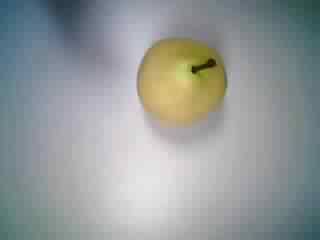pear: (128, 27, 234, 134)
